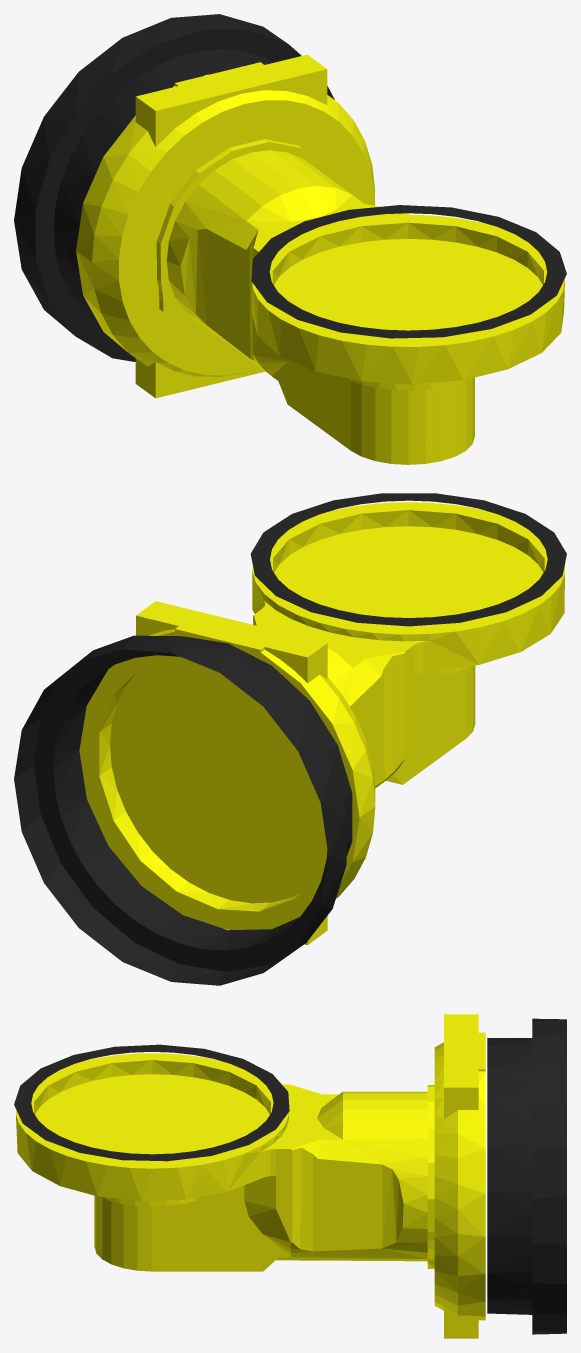
3 views of the same model, one above another, from view 1: azimuth 30°, elevation 25°; view 2: azimuth 150°, elevation 25°; view 3: azimuth 270°, elevation 25° (orthographic). The views are drawn at different scales.
Parts seen in each view (by area): view 1: node; view 2: node; view 3: node.
Boxes of the visible parts, left/top/right/bottom form: node: left=14, top=14, right=566, bottom=464; node: left=14, top=493, right=566, bottom=985; node: left=14, top=1014, right=566, bottom=1338.
Bounding box in the file's own units: 183 × 183 × 319.
